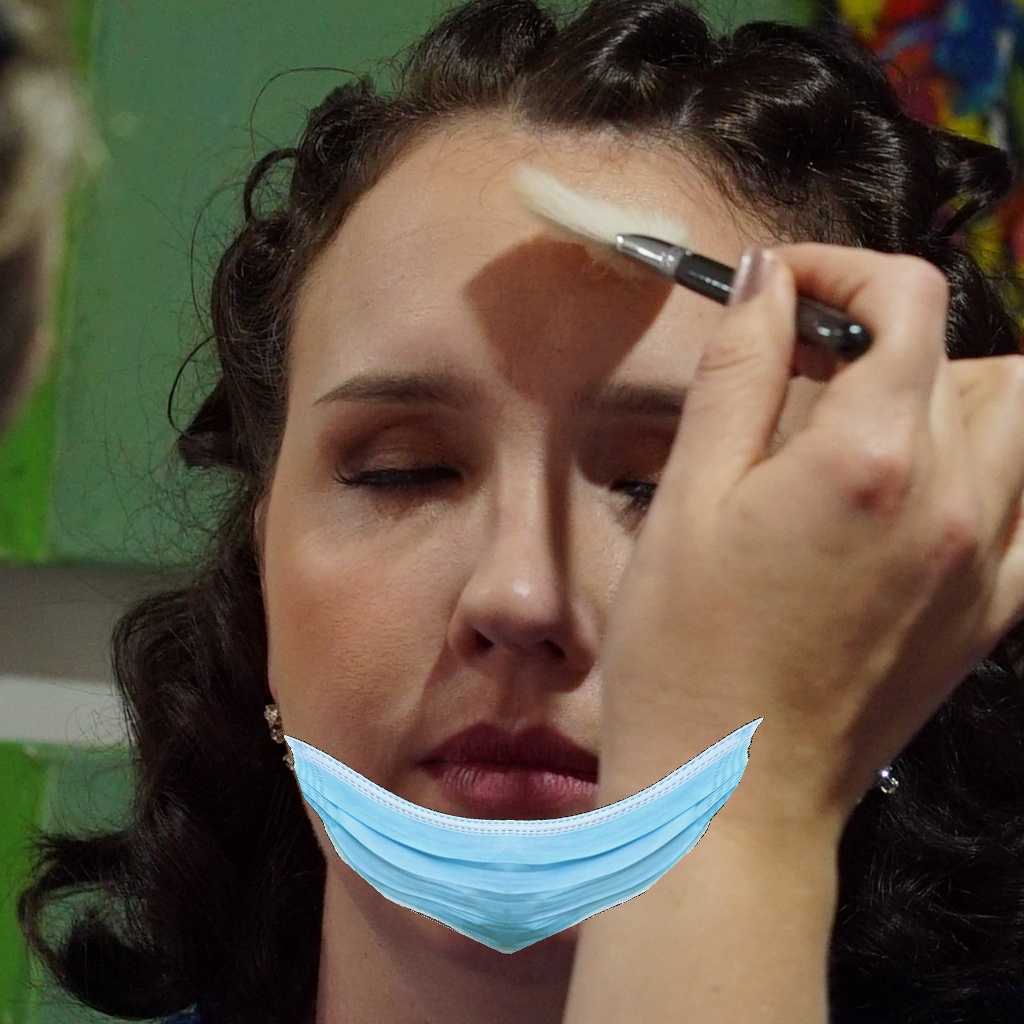mascarilla_mal_puesta: (219, 275, 904, 953)
